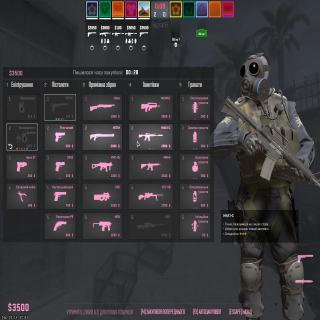CT-Body: (215, 52, 315, 320)
CT-Head: (238, 52, 271, 101)
